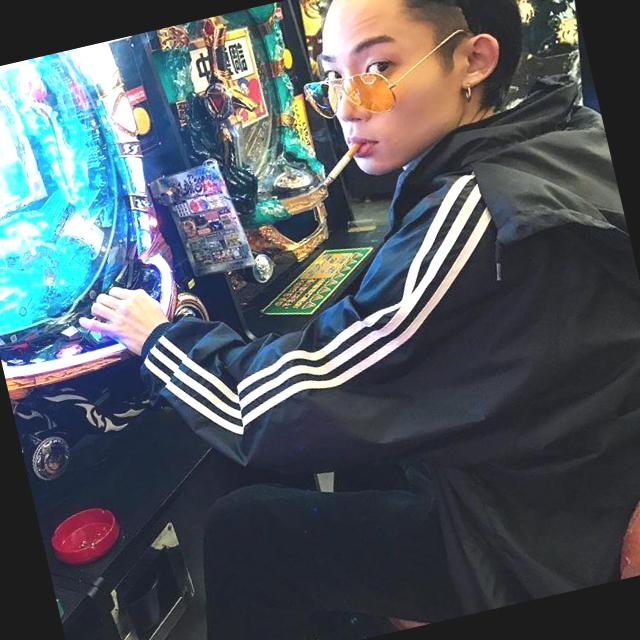cigarette: (302, 112, 378, 200)
